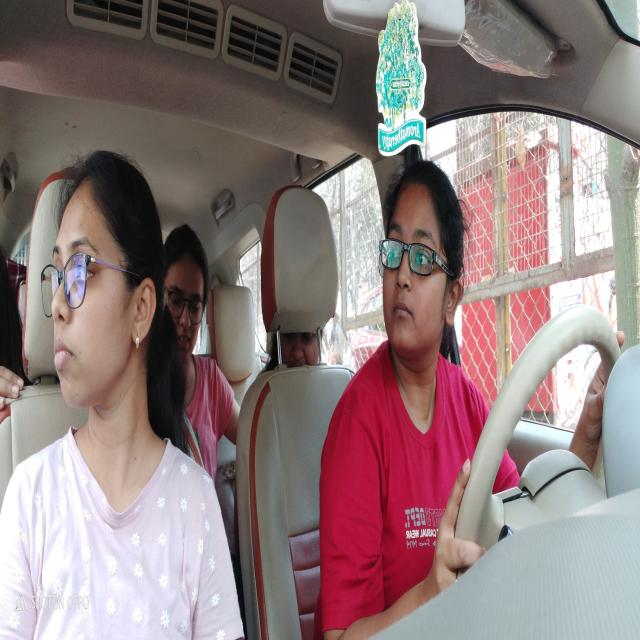LeftRight: (379, 148, 472, 382)
person: (42, 146, 161, 419), (164, 219, 213, 369), (278, 329, 321, 366)
